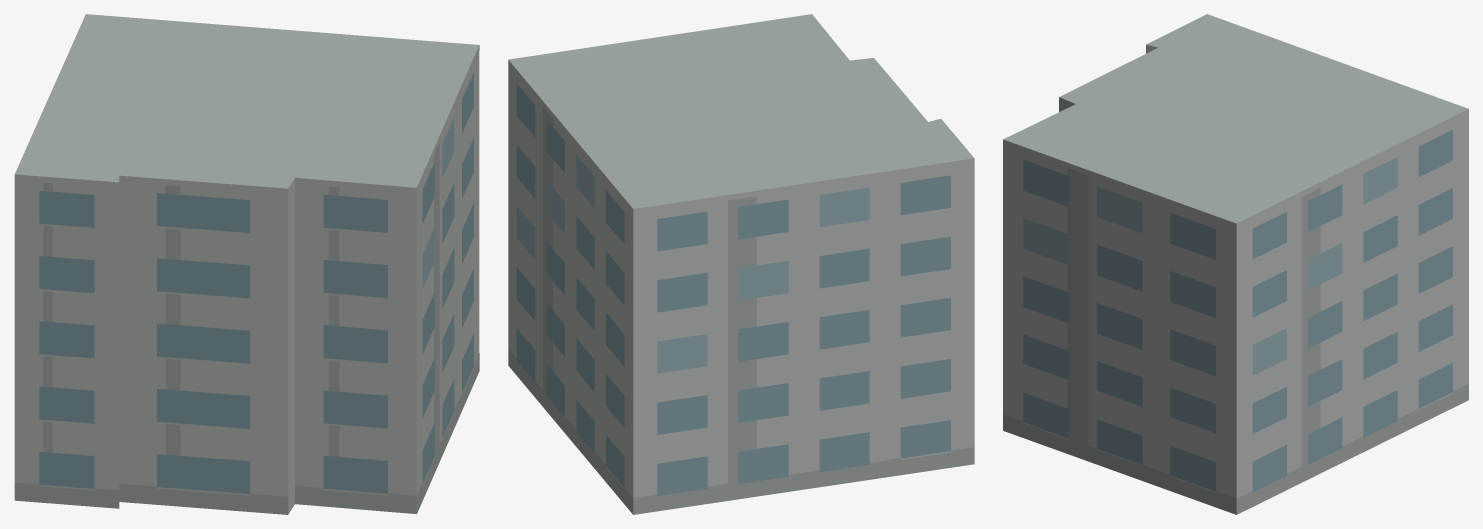
The model's file is survey-upis-33004467.glb.
The picture shows the model from 3 angles, left to right: view 1: azimuth 30°, elevation 25°; view 2: azimuth 150°, elevation 25°; view 3: azimuth 270°, elevation 25°; orthographic projection. The views are drawn at different scales.
Parts seen in each view (by area): view 1: survey-upis-33004467.tmp; view 2: survey-upis-33004467.tmp; view 3: survey-upis-33004467.tmp.
Part boxes in pixels (left/top/right/bottom): survey-upis-33004467.tmp: left=14, top=14, right=479, bottom=514; survey-upis-33004467.tmp: left=508, top=14, right=974, bottom=514; survey-upis-33004467.tmp: left=1003, top=14, right=1468, bottom=514.
Size of the model in its own units: 20.38 by 13.2 by 19.14.
